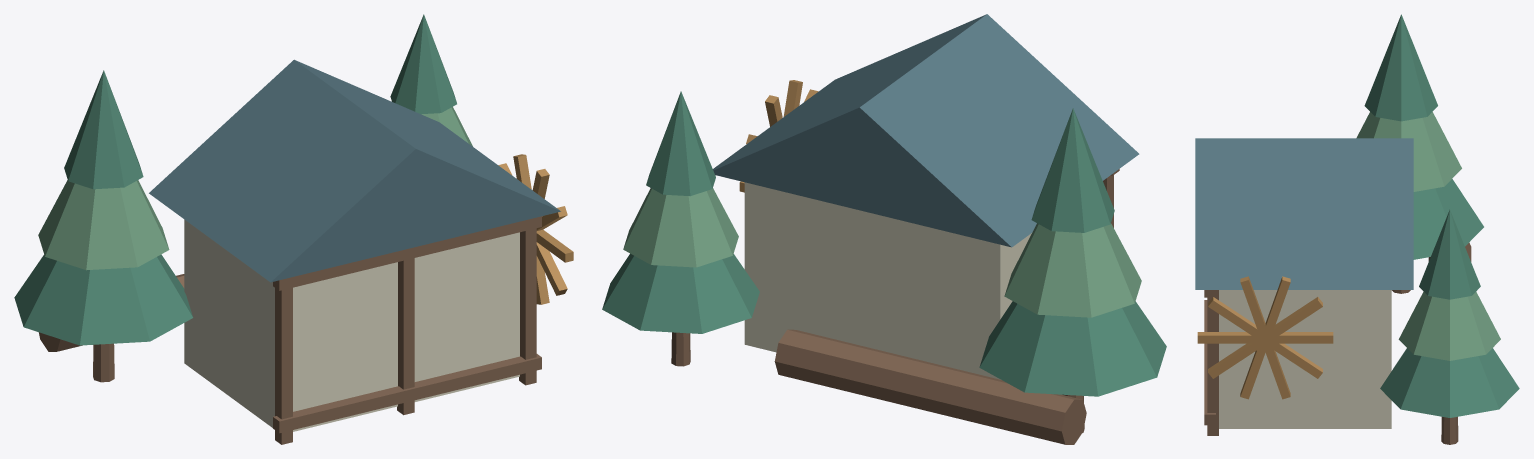
Rendered from SM_Sawmill.fbx.
The picture shows the model from 3 angles, left to right: view 1: azimuth 30°, elevation 25°; view 2: azimuth 150°, elevation 25°; view 3: azimuth 270°, elevation 25°; orthographic projection. The views are drawn at different scales.
Parts seen in each view (by area): view 1: SM_Sawmill; view 2: SM_Sawmill; view 3: SM_Sawmill.
Boxes of the visible parts, bbox=[...] form: SM_Sawmill: bbox=[14, 14, 573, 444]; SM_Sawmill: bbox=[602, 14, 1166, 444]; SM_Sawmill: bbox=[1195, 14, 1519, 444].
Bounding box in the file's own units: 5.28 × 3.35 × 3.18.
